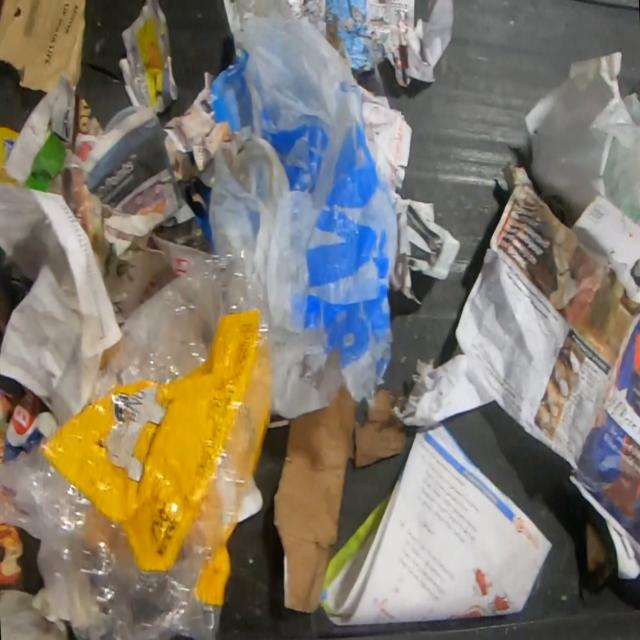cardboard: (272, 384, 408, 616), (0, 0, 88, 95), (569, 195, 640, 306), (2, 386, 58, 464)
soft_plastic: (0, 238, 279, 639), (203, 14, 401, 420), (554, 90, 640, 226)
